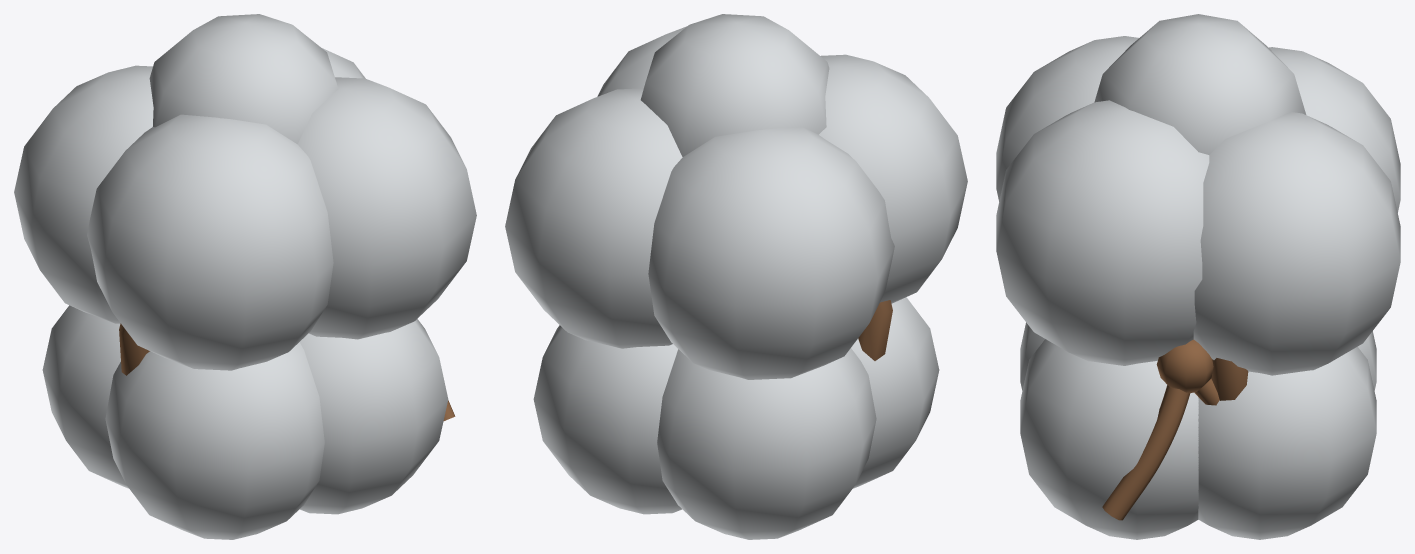
File: drop-creature-fiber.glb
The picture shows the model from 3 angles, left to right: view 1: azimuth 30°, elevation 25°; view 2: azimuth 150°, elevation 25°; view 3: azimuth 270°, elevation 25°; orthographic projection.
Parts seen in each view (by area): view 1: Mesh_Puff_Top3, Mesh_Puff_Bot3, Mesh_Puff_Top1, Mesh_Puff_Bot1, Mesh_Puff_Top2, Mesh_Puff_Cap, Mesh_Puff_Bot2, Mesh_Thread_Loop, Mesh_Puff_Top4; view 2: Mesh_Puff_Top2, Mesh_Puff_Top4, Mesh_Puff_Bot2, Mesh_Puff_Top3, Mesh_Puff_Bot4, Mesh_Puff_Cap, Mesh_Puff_Bot3, Mesh_Puff_Top1, Mesh_Thread_Loop; view 3: Mesh_Puff_Top1, Mesh_Puff_Top4, Mesh_Puff_Bot4, Mesh_Puff_Bot1, Mesh_Puff_Cap, Mesh_Puff_Top3, Mesh_Puff_Top2, Mesh_Thread_EndA, Mesh_Thread_Knot, Mesh_Thread_Loop, Mesh_Puff_Bot3, Mesh_Puff_Bot2.
Boxes of the visible parts, left/top/right/bottom form: Mesh_Puff_Top3: left=87, top=114, right=333, bottom=370; Mesh_Puff_Bot3: left=105, top=342, right=324, bottom=539; Mesh_Puff_Top1: left=297, top=77, right=476, bottom=339; Mesh_Puff_Bot1: left=299, top=319, right=448, bottom=514; Mesh_Puff_Top2: left=14, top=65, right=153, bottom=323; Mesh_Puff_Cap: left=149, top=14, right=338, bottom=144; Mesh_Puff_Bot2: left=42, top=305, right=128, bottom=488; Mesh_Thread_Loop: left=119, top=323, right=149, bottom=375; Mesh_Puff_Top4: left=322, top=48, right=365, bottom=78; Mesh_Puff_Top2: left=648, top=126, right=894, bottom=379; Mesh_Puff_Top4: left=505, top=88, right=682, bottom=348; Mesh_Puff_Bot2: left=657, top=348, right=876, bottom=539; Mesh_Puff_Top3: left=819, top=54, right=967, bottom=303; Mesh_Puff_Bot4: left=533, top=325, right=682, bottom=514; Mesh_Puff_Cap: left=640, top=14, right=829, bottom=156; Mesh_Puff_Bot3: left=851, top=297, right=939, bottom=488; Mesh_Puff_Top1: left=597, top=26, right=686, bottom=96; Mesh_Thread_Loop: left=858, top=300, right=892, bottom=360; Mesh_Puff_Top1: left=996, top=100, right=1209, bottom=365; Mesh_Puff_Top4: left=1193, top=112, right=1400, bottom=375; Mesh_Puff_Bot4: left=1198, top=347, right=1376, bottom=539; Mesh_Puff_Bot1: left=1020, top=339, right=1198, bottom=539; Mesh_Puff_Cap: left=1094, top=14, right=1306, bottom=154; Mesh_Puff_Top3: left=996, top=36, right=1138, bottom=201; Mesh_Puff_Top2: left=1269, top=47, right=1400, bottom=212; Mesh_Thread_EndA: left=1102, top=385, right=1190, bottom=520; Mesh_Thread_Knot: left=1156, top=339, right=1213, bottom=393; Mesh_Thread_Loop: left=1211, top=358, right=1248, bottom=400; Mesh_Puff_Bot3: left=1020, top=322, right=1044, bottom=390; Mesh_Puff_Bot2: left=1357, top=331, right=1376, bottom=390.
Bounding box in the file's own units: 0.34 × 0.43 × 0.3292.
